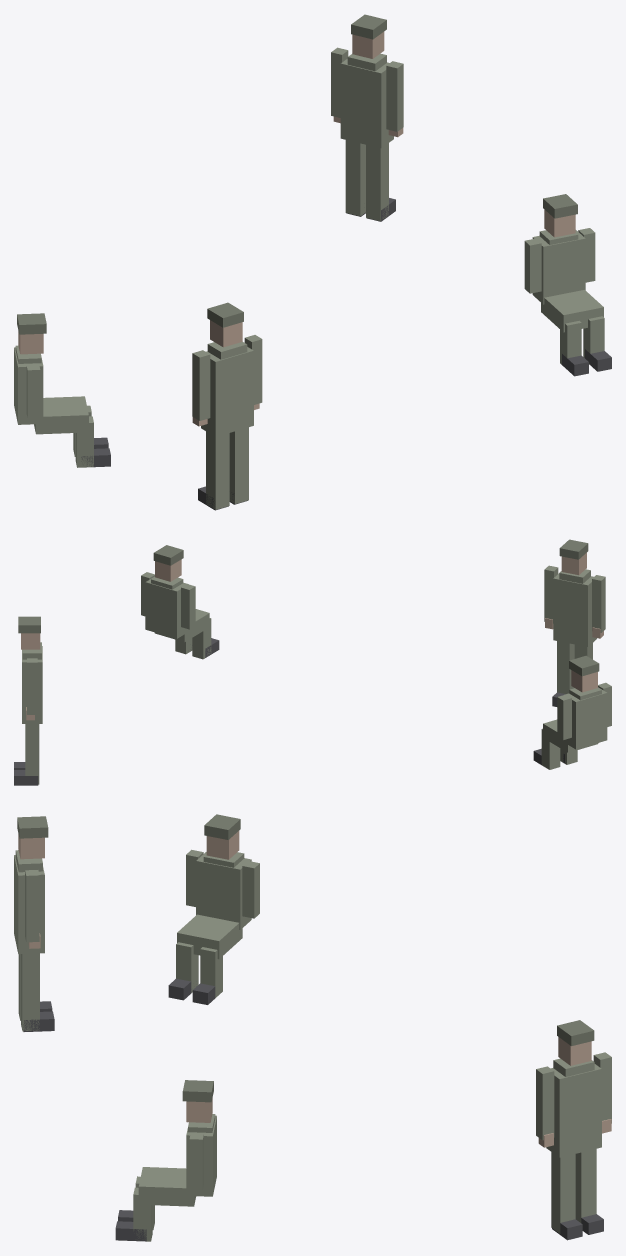
The model's file is crew.glb.
3 renders of one model, top to bottom at view 1: azimuth 30°, elevation 25°; view 2: azimuth 150°, elevation 25°; view 3: azimuth 270°, elevation 25°, orthographic. The views are drawn at different scales.
Parts seen in each view (by area): view 1: Cube, Cube.034, Cube.012, Cube.040, Cube.027, Cube.016, Cube.010, Cube.006, Cube.044, Cube.038, Cube.008, Cube.023 (+12 smaller); view 2: Cube.034, Cube.012, Cube.023, Cube.006, Cube.044, Cube, Cube.038, Cube.020, Cube.028, Cube.004, Cube.042, Cube.029 (+10 smaller); view 3: Cube, Cube.023, Cube.016, Cube.027, Cube.010, Cube.034, Cube.006, Cube.044, Cube.008, Cube.012, Cube.042, Cube.028 (+12 smaller).
Boxes of the visible parts, x1,y1,x2,y2 form: Cube: [340, 59, 393, 148]; Cube.034: [201, 347, 253, 436]; Cube.012: [532, 230, 585, 304]; Cube.040: [206, 431, 229, 509]; Cube.027: [34, 396, 88, 434]; Cube.016: [541, 290, 603, 332]; Cube.010: [366, 143, 388, 221]; Cube.006: [345, 140, 365, 216]; Cube.044: [229, 427, 248, 503]; Cube.038: [192, 350, 210, 420]; Cube.008: [386, 61, 403, 131]; Cube.023: [14, 347, 43, 424]; Cube.034: [553, 573, 596, 646]; Cube.012: [145, 576, 188, 638]; Cube.023: [564, 687, 607, 749]; Cube.006: [25, 724, 39, 784]; Cube.044: [557, 641, 574, 693]; Cube: [22, 646, 42, 723]; Cube.038: [592, 575, 605, 632]; Cube.020: [181, 584, 195, 629]; Cube.028: [557, 694, 571, 739]; Cube.004: [27, 658, 37, 714]; Cube.042: [544, 565, 558, 623]; Cube.029: [541, 728, 560, 769]; Cube: [546, 1064, 601, 1157]; Cube.023: [196, 852, 251, 929]; Cube.016: [138, 1167, 196, 1206]; Cube.027: [177, 914, 242, 959]; Cube.010: [551, 1152, 575, 1233]; Cube.034: [14, 855, 44, 954]; Cube.006: [575, 1149, 596, 1222]; Cube.044: [21, 953, 39, 1031]; Cube.008: [536, 1066, 554, 1140]; Cube.012: [186, 1115, 216, 1196]; Cube.042: [25, 870, 39, 942]; Cube.028: [242, 861, 259, 918].
Bounding box in the file's own units: 6.19 × 1.99 × 5.38.
